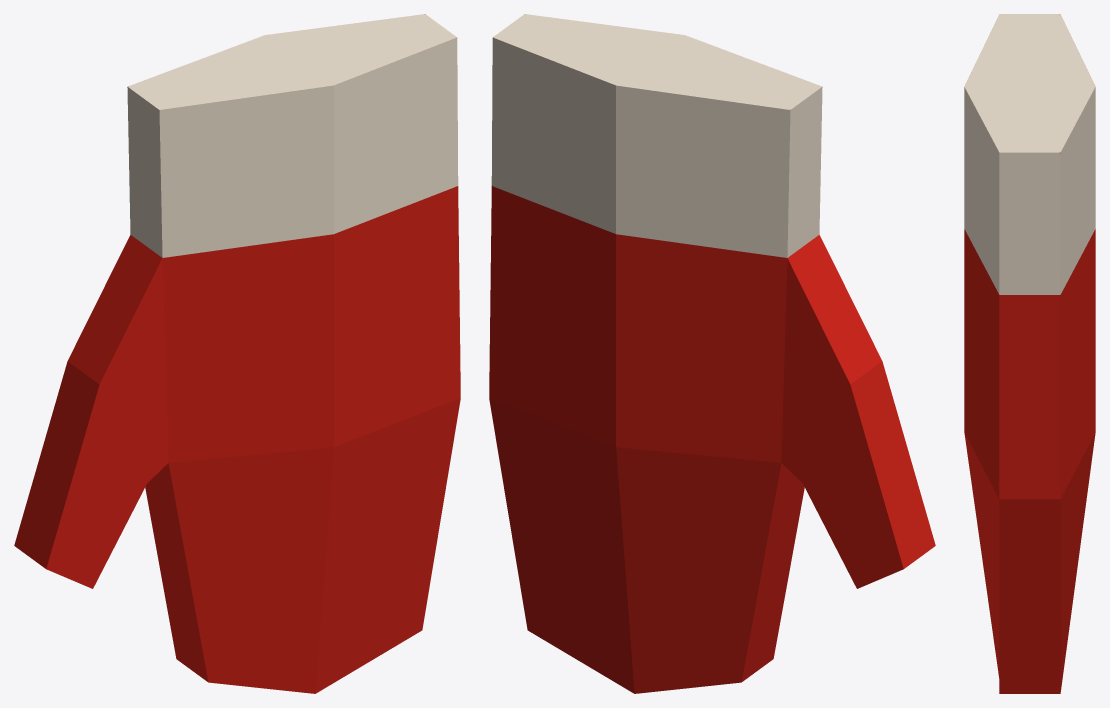
Rendered from ovenGlove2_PLY.fbx.
The picture shows the model from 3 angles, left to right: view 1: azimuth 30°, elevation 25°; view 2: azimuth 150°, elevation 25°; view 3: azimuth 270°, elevation 25°; orthographic projection. The views are drawn at different scales.
Visible parts, largest first — view 1: ovenGlove2_PLY; view 2: ovenGlove2_PLY; view 3: ovenGlove2_PLY.
Boxes of the visible parts, x1,y1,x2,y2 form: ovenGlove2_PLY: (14,14,460,693); ovenGlove2_PLY: (489,14,935,693); ovenGlove2_PLY: (964,14,1095,693).
Size of the model in its own units: 0.8493 by 1.22 by 0.2444.
